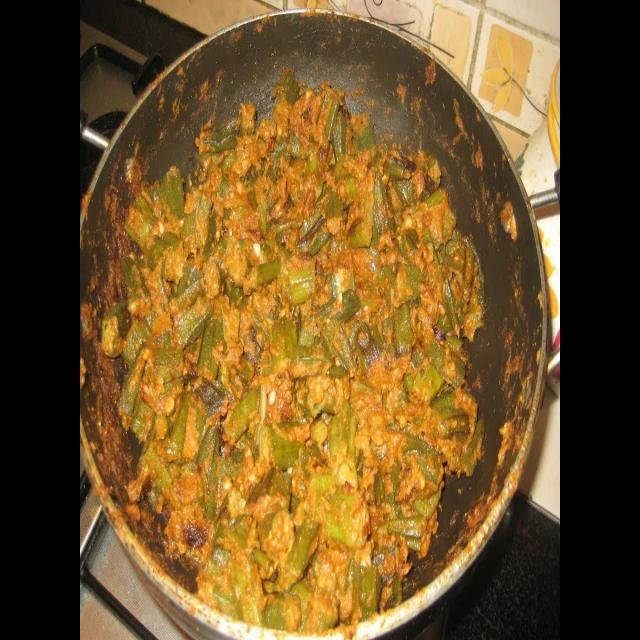BhindiMasala: (100, 69, 484, 634)
